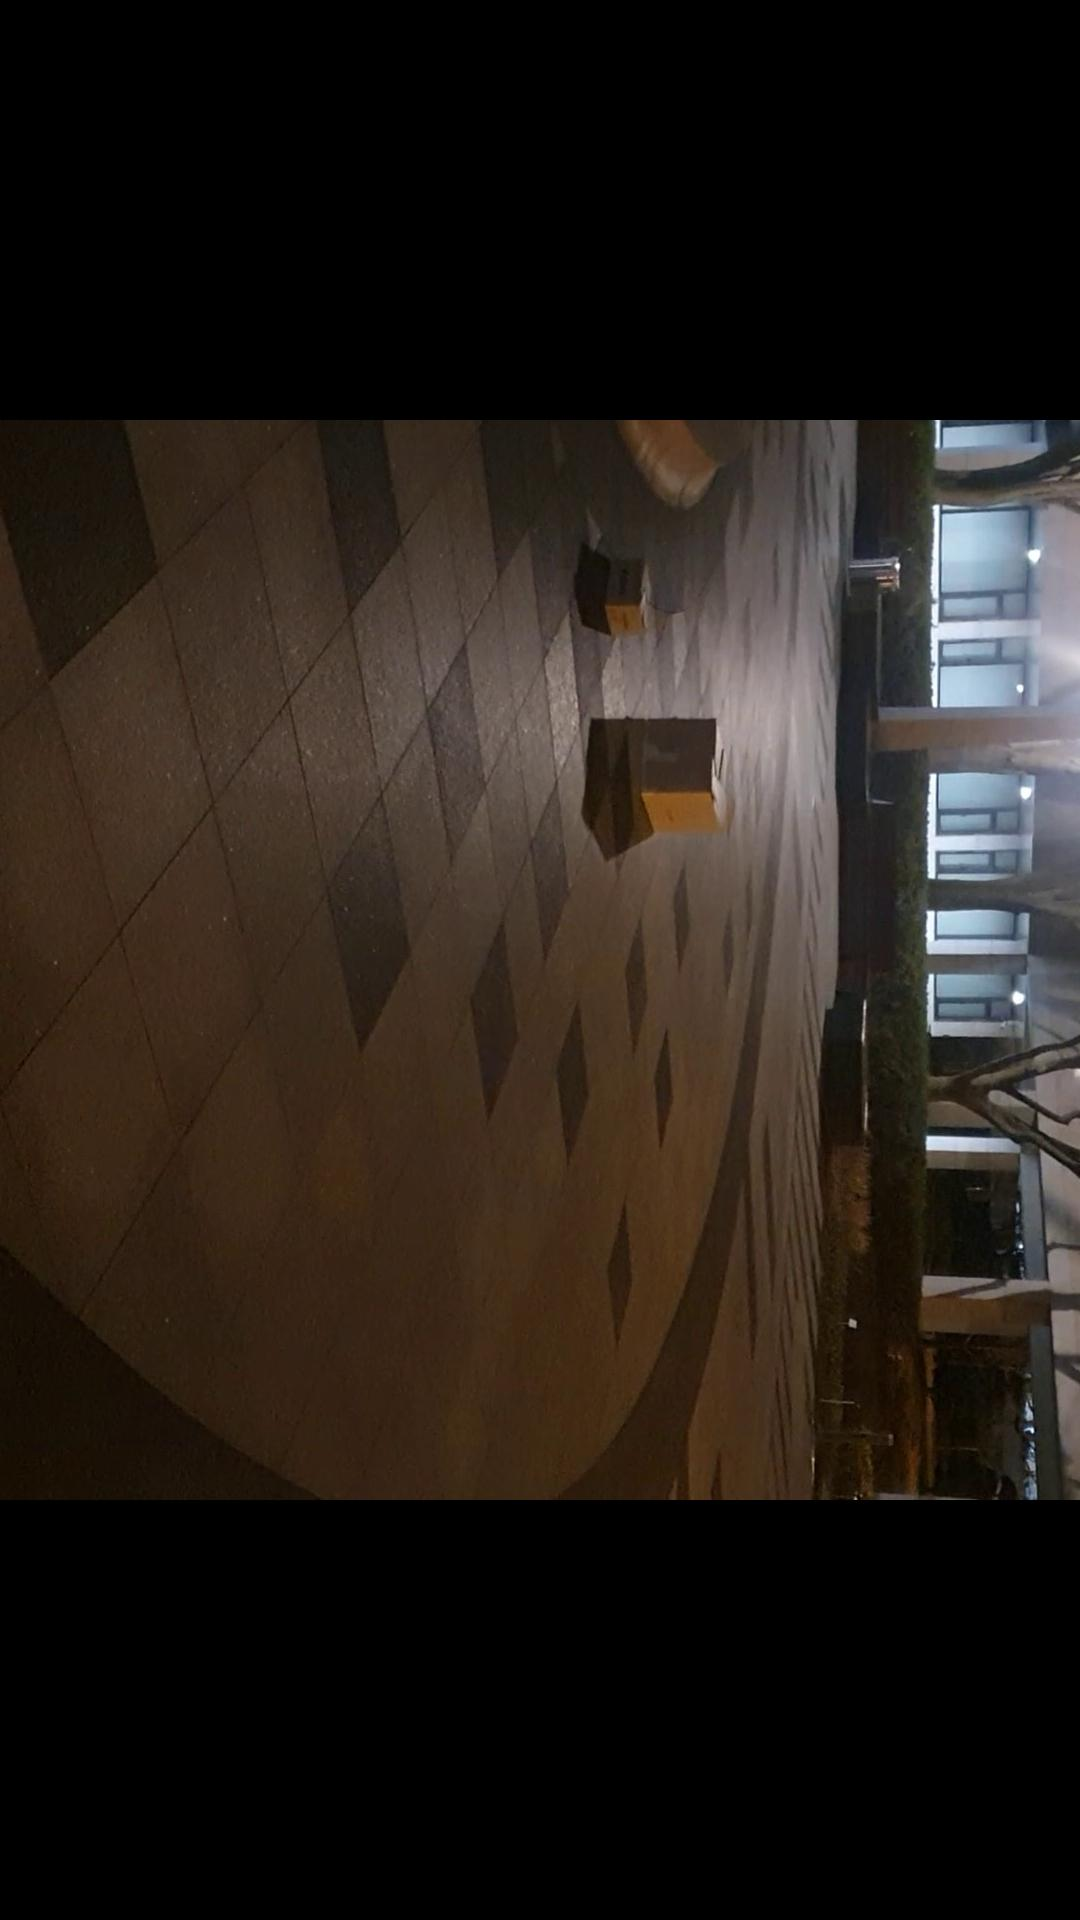Box: (633, 705, 740, 837), (592, 558, 662, 647)
